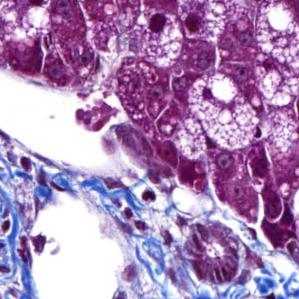ballooning: (187, 71, 260, 152), (134, 6, 183, 72), (175, 4, 231, 47)
